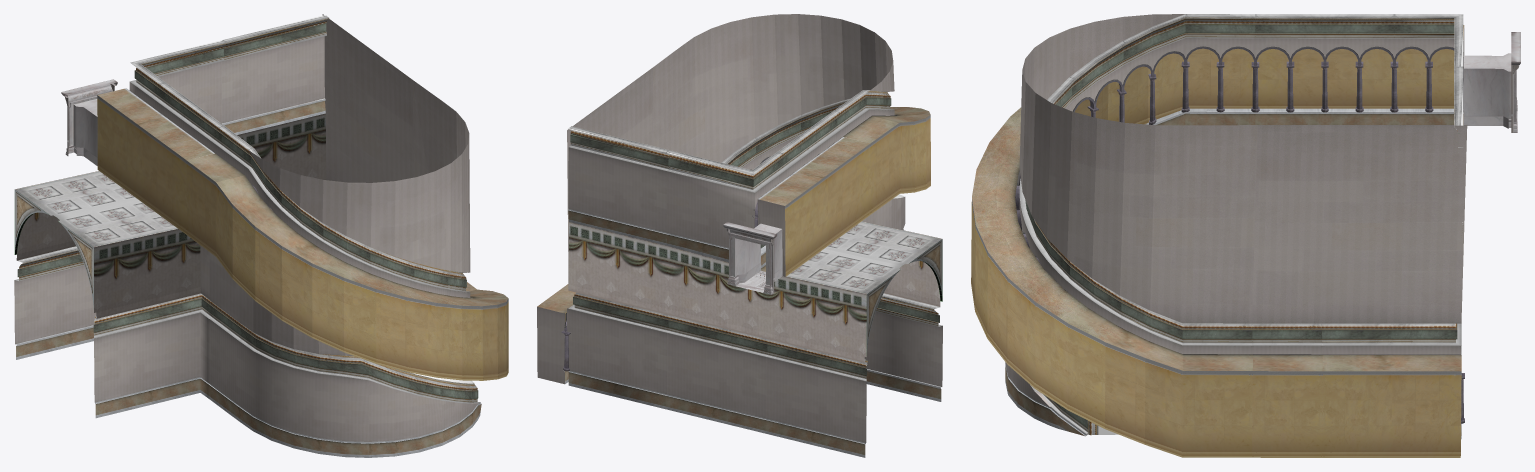
The model's file is Stairs2.obj.
The picture shows the model from 3 angles, left to right: view 1: azimuth 30°, elevation 25°; view 2: azimuth 150°, elevation 25°; view 3: azimuth 270°, elevation 25°; orthographic projection. The views are drawn at different scales.
Parts seen in each view (by area): view 1: Object017, Object015, Object018, Door009; view 2: Object017, Object018, Object015, Door009, Object016; view 3: Object017, Object015, Object016, Door009.
Boxes of the visible parts, left/top/right/bottom form: Object017: left=14, top=14, right=508, bottom=457; Object015: left=97, top=95, right=508, bottom=380; Object018: left=14, top=113, right=326, bottom=318; Door009: left=61, top=79, right=117, bottom=165; Object017: left=537, top=14, right=942, bottom=457; Object018: left=568, top=221, right=942, bottom=362; Object015: left=565, top=115, right=930, bottom=321; Door009: left=723, top=222, right=782, bottom=294; Object016: left=561, top=114, right=897, bottom=371; Object017: left=972, top=14, right=1467, bottom=439; Object015: left=971, top=48, right=1461, bottom=457; Object016: left=1015, top=46, right=1464, bottom=423; Door009: left=1463, top=32, right=1520, bottom=132.
Bounding box in the file's own units: 20.5 × 15.28 × 24.26.
